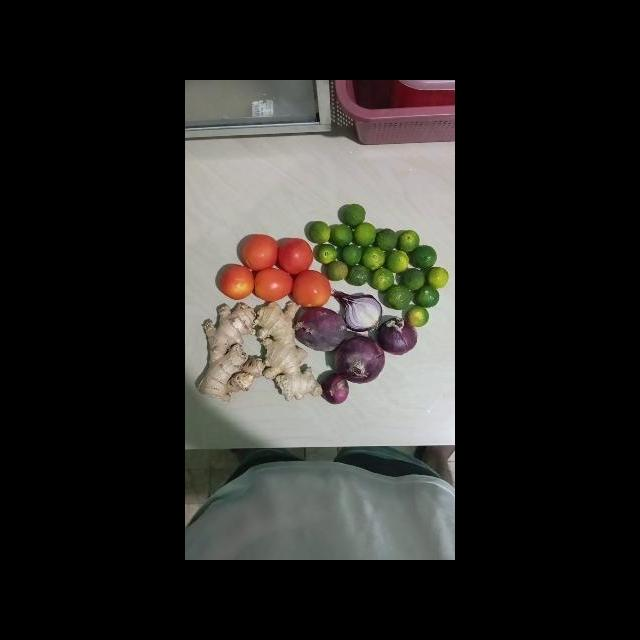ginger: (245, 294, 330, 408), (191, 297, 271, 407)
onion: (325, 282, 400, 337), (288, 301, 358, 358), (331, 332, 393, 387), (371, 312, 426, 360), (316, 363, 365, 408)
